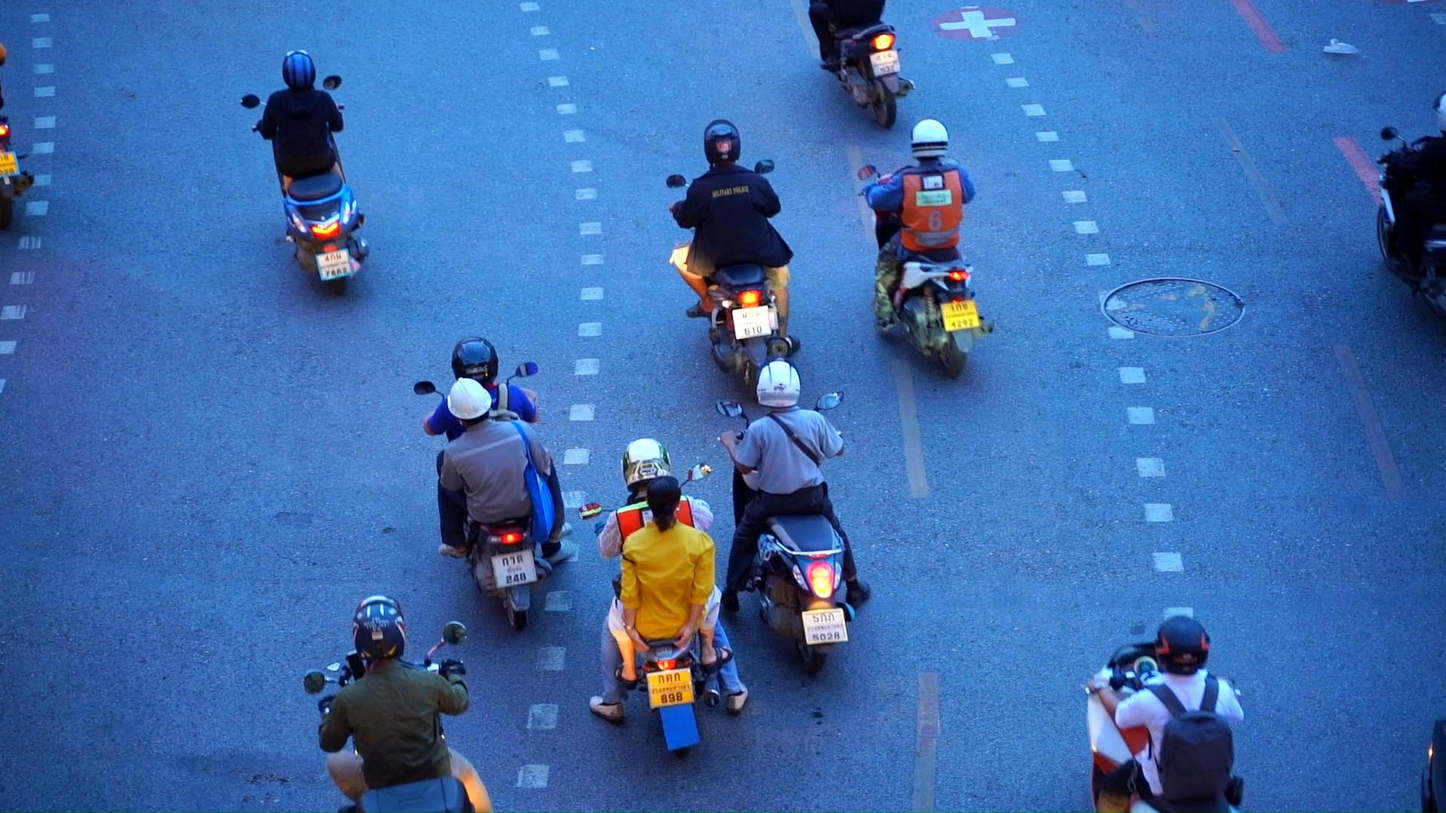driver: (578, 437, 749, 761), (715, 356, 870, 674), (414, 337, 577, 632), (304, 594, 496, 813), (666, 118, 800, 404), (857, 117, 996, 381), (241, 50, 370, 296), (1084, 614, 1243, 813), (1374, 91, 1446, 323), (809, 1, 916, 129)
helmet: (352, 594, 406, 667), (1154, 615, 1211, 674), (620, 438, 672, 491), (452, 336, 498, 389), (755, 357, 801, 409), (447, 377, 492, 429), (704, 118, 741, 169), (910, 117, 950, 159), (283, 50, 316, 91), (1433, 91, 1446, 133)
no-helmet: (646, 475, 682, 533)
